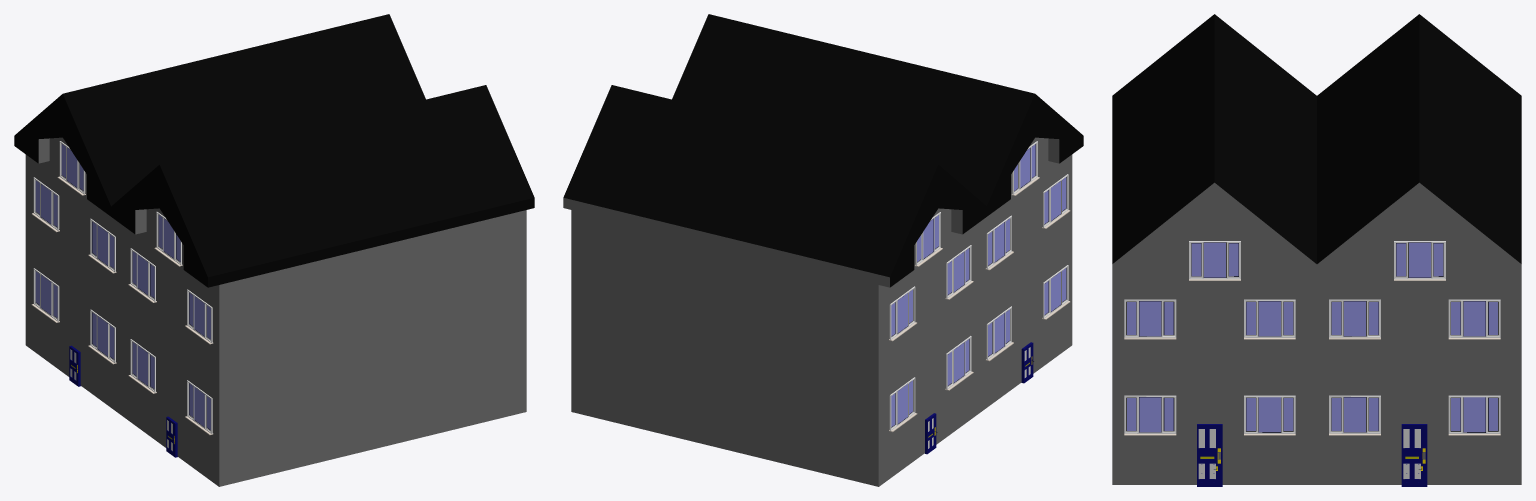
The model's file is Semi-DetachedHouse.fbx.
3 renders of one model, left to right at view 1: azimuth 30°, elevation 25°; view 2: azimuth 150°, elevation 25°; view 3: azimuth 270°, elevation 25°, orthographic. The views are drawn at different scales.
Parts seen in each view (by area): view 1: TerracedHouses.002; view 2: TerracedHouses.002; view 3: TerracedHouses.002.
Boxes of the visible parts, box(x1,y1,x2,y2) form: TerracedHouses.002: box(14, 14, 534, 486); TerracedHouses.002: box(563, 14, 1083, 486); TerracedHouses.002: box(1112, 14, 1521, 486).
Bounding box in the file's own units: 1169 × 994 × 1200.
